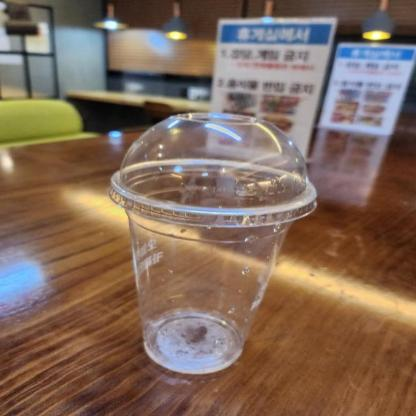Plastic Cup: (106, 95, 317, 377)
